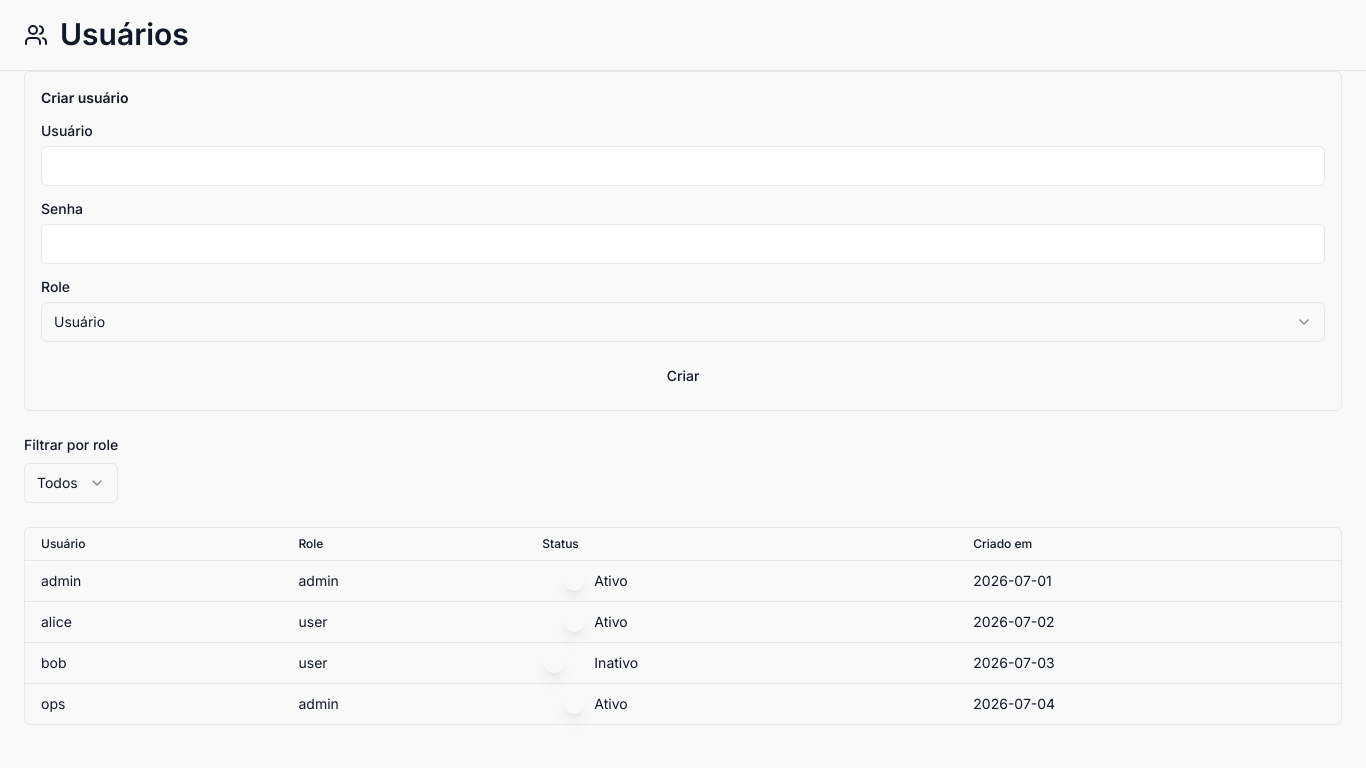
Test case: UsersPage — role filter narrows table (user-management-frontend-2 unit-1 / REQ-002) › REQ-002: WHEN the admin selects the role=admin filter THEN only role=admin rows remain visible in the table
The role filter is a Radix Select — open it and pick the "admin" option.
Click the dropdown named "filtrar por role" at (71, 482), box x1=24 y1=462 x2=118 y2=502
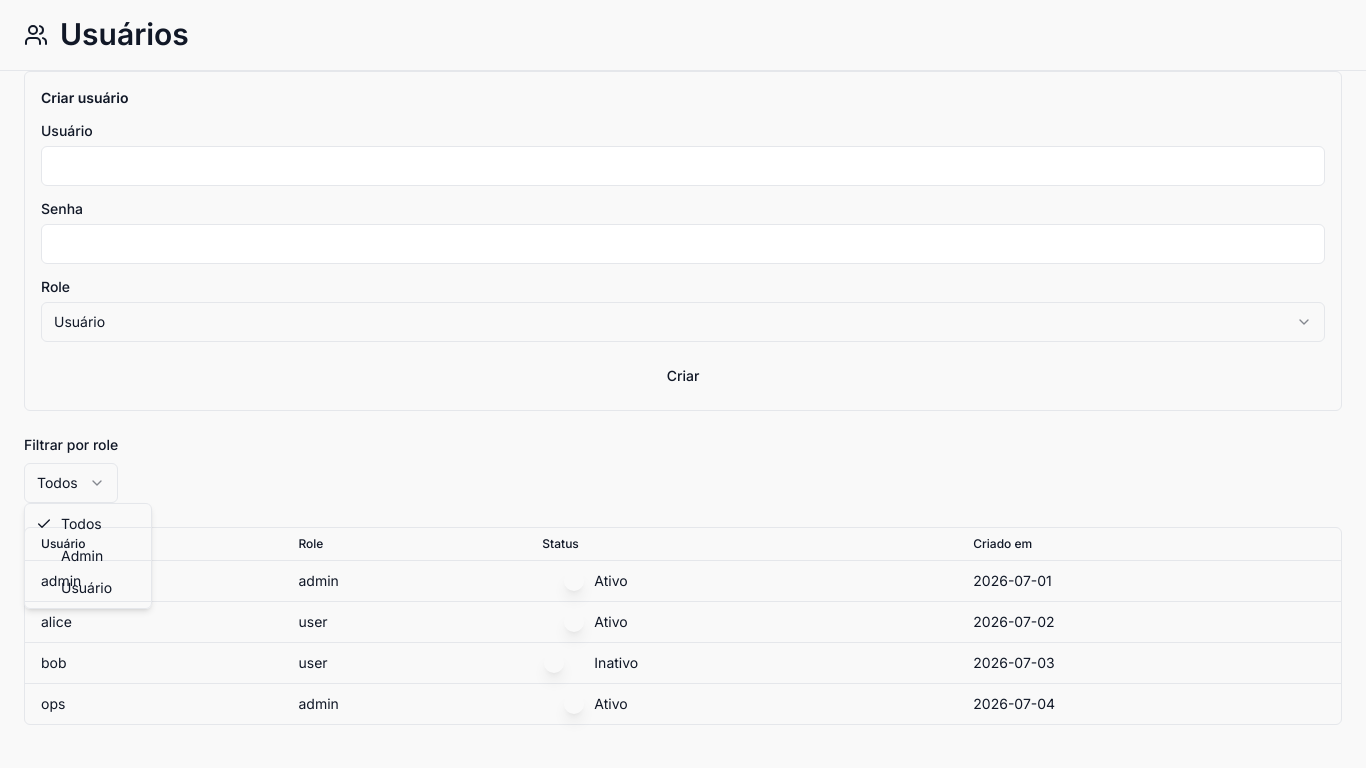
Click the option "Admin" at (82, 556), box x1=61 y1=547 x2=103 y2=564
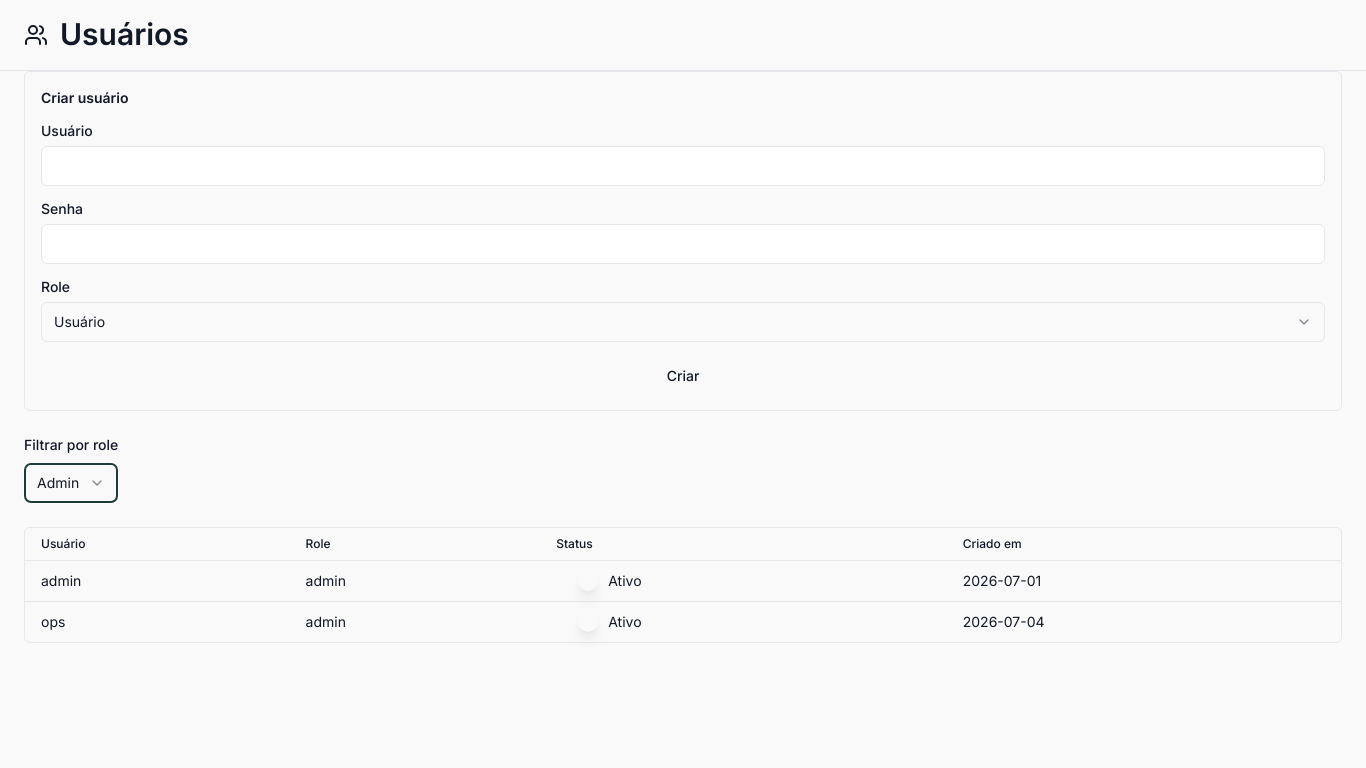
Result: the text "alice" is gone
Result: the text "bob" is gone
